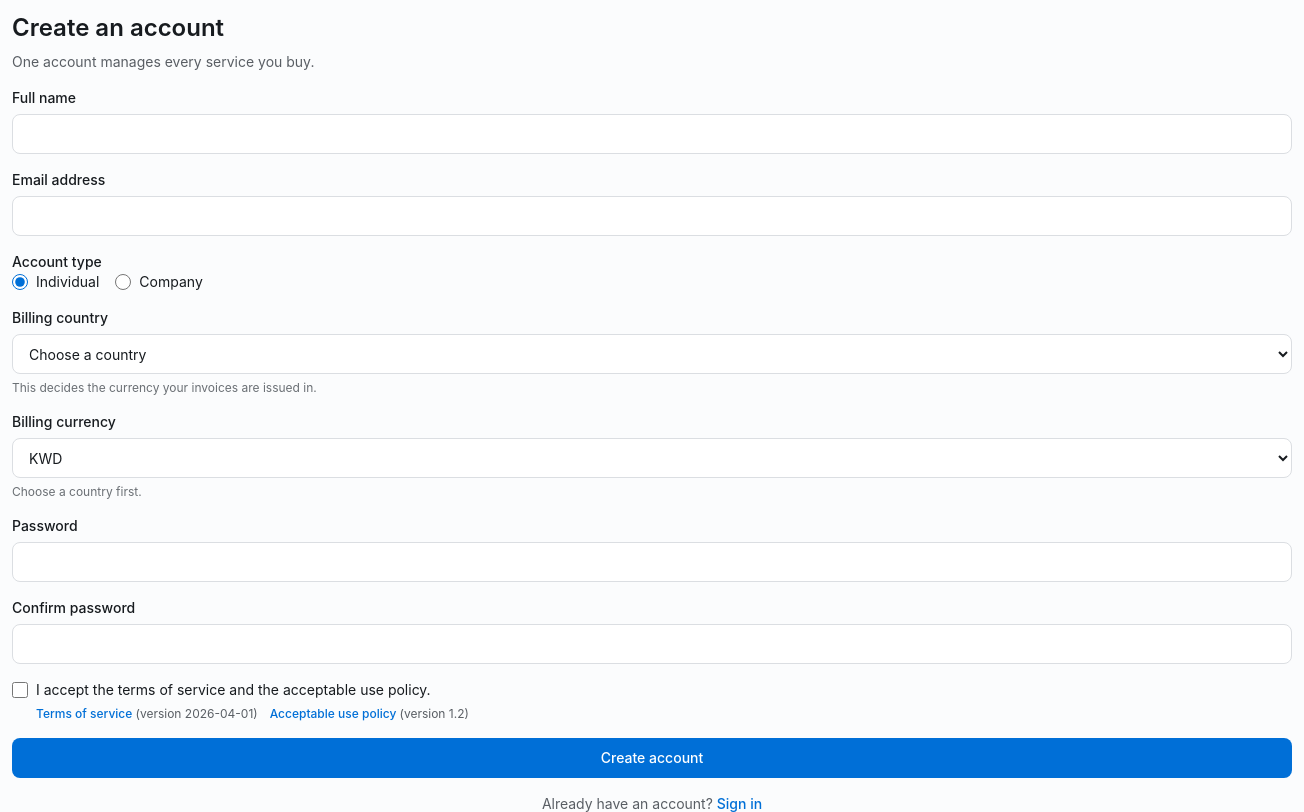
Test: registration decides the currency out loud › shows the currency the country implies, before anything is submitted
Select "Saudi Arabia" in the dropdown labelled "Billing country" at [652, 354], box x1=12 y1=334 x2=1292 y2=374
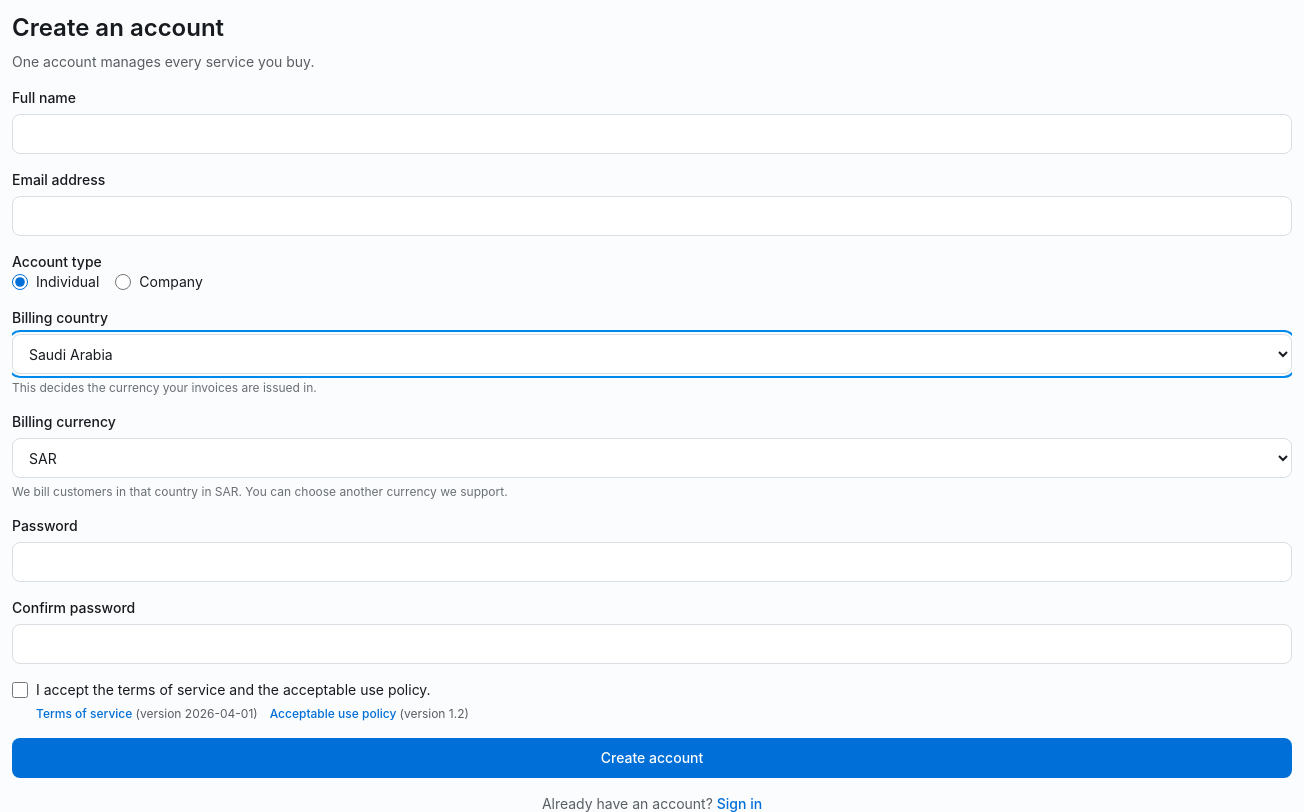
Check: the dropdown labelled "Billing currency" shows "SAR", box x1=12 y1=438 x2=1292 y2=478
Check: the text "We bill customers in that country in SAR" is shown, box x1=12 y1=484 x2=508 y2=499
